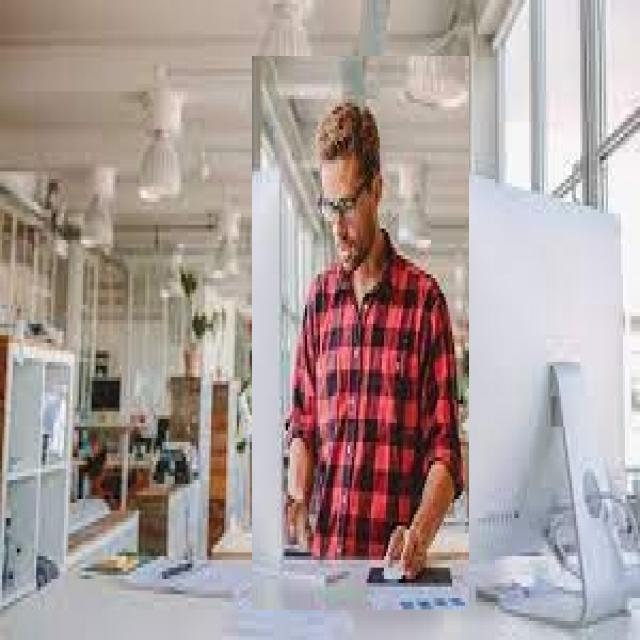NotFall: (225, 110, 496, 606)
